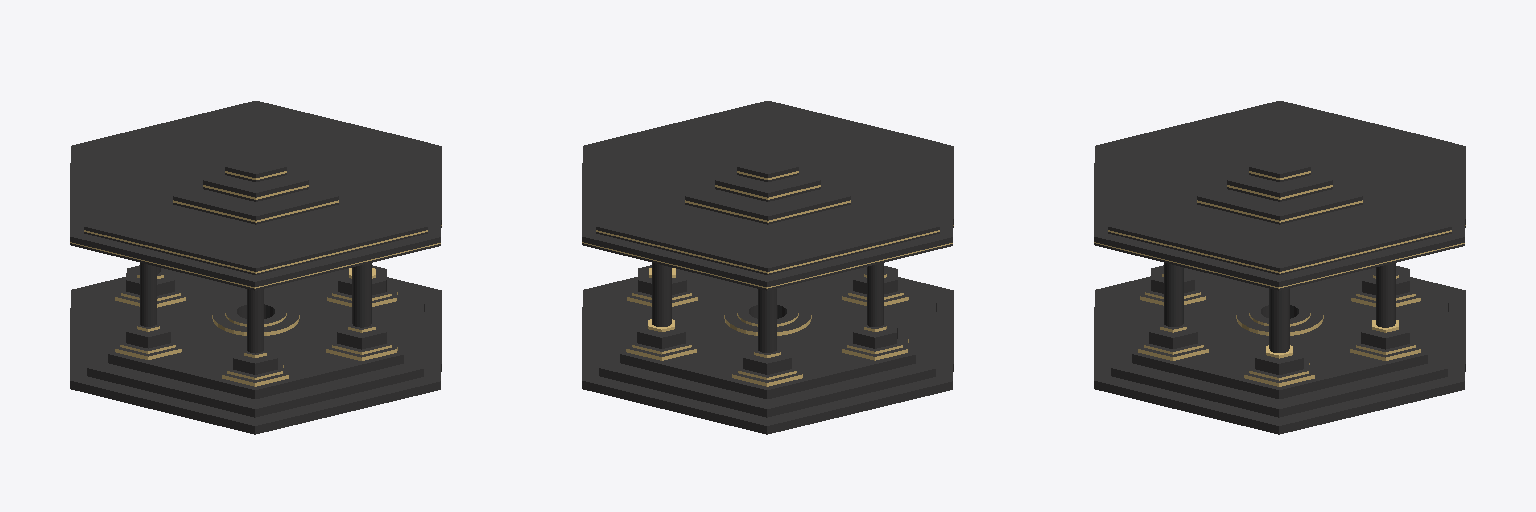
File: myobject.obj
3 renders of one model, left to right at view 1: azimuth 30°, elevation 25°; view 2: azimuth 150°, elevation 25°; view 3: azimuth 270°, elevation 25°, orthographic.
Parts seen in each view (by area): view 1: Mesh1 Model; view 2: Mesh1 Model; view 3: Mesh1 Model.
Boxes of the visible parts, <box> form: Mesh1 Model: <box>70,101,441,434</box>; Mesh1 Model: <box>582,101,953,434</box>; Mesh1 Model: <box>1094,101,1465,434</box>.
Bounding box in the file's own units: 1576 × 785 × 1368.